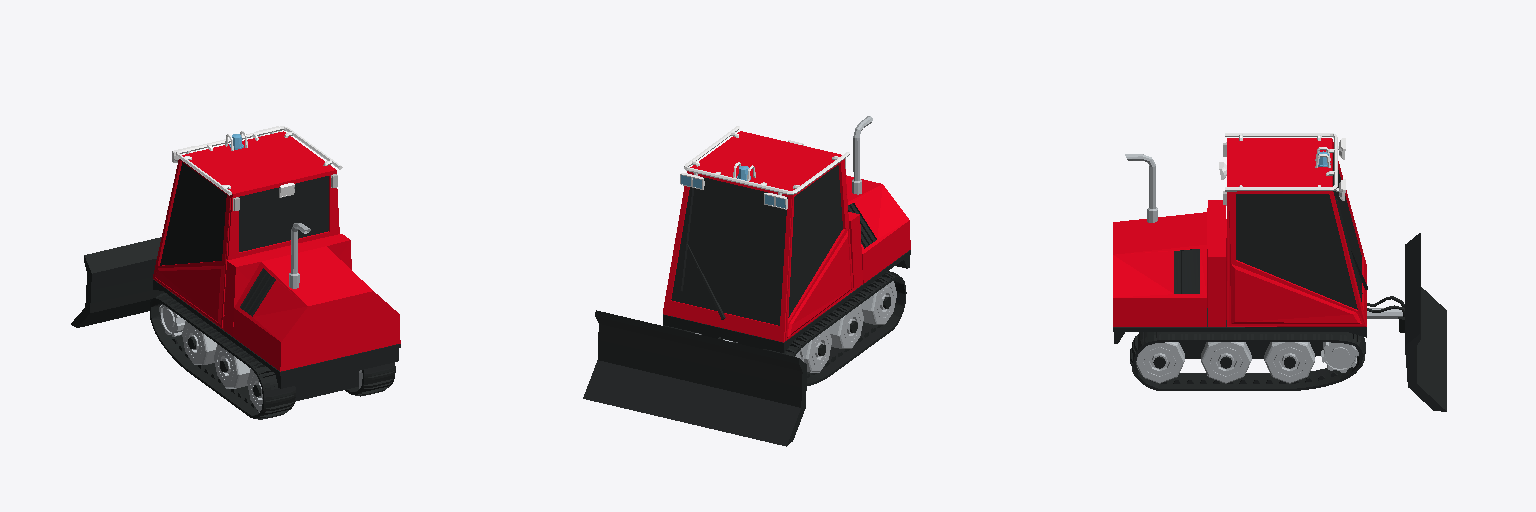
The model's file is LowPoly-Snowcat.obj.
The picture shows the model from 3 angles: view 1: azimuth 30°, elevation 25°; view 2: azimuth 150°, elevation 25°; view 3: azimuth 270°, elevation 25°; orthographic projection.
Parts seen in each view (by area): view 1: Cabin, Windows, Tracks, Backet, Base, Cabin_pipe, Wheel_3, Wheel_3.2, Lattice, Exhaust_pipe, Wheel1; view 2: Backet, Windows, Cabin, Tracks, Base, Cabin_pipe, Wheel_3.1, Wheel_3, Wheel_3.2, Front_lights, Exhaust_pipe, Wiper; view 3: Cabin, Windows, Tracks, Backet, Base, Wheel_3, Wheel_3.2, Wheel_3.1, Cabin_pipe, Lattice, Wheel1, Exhaust_pipe.
Part boxes in pixels (x1,y1,x2,y2): Cabin: (153,131,400,371); Windows: (160,162,328,265); Tracks: (150,293,395,419); Backet: (71,237,164,327); Base: (153,279,400,401); Cabin_pipe: (176,126,342,195); Wheel_3: (214,344,250,388); Wheel_3.2: (182,321,216,364); Lattice: (240,268,275,316); Exhaust_pipe: (289,223,310,288); Wheel1: (159,304,185,336); Backet: (583,310,806,446); Windows: (671,165,842,325); Cabin: (663,131,910,342); Tracks: (663,271,906,385); Base: (663,250,910,352); Cabin_pipe: (684,126,849,194); Wheel_3.1: (860,281,896,324); Wheel_3: (829,305,863,348); Wheel_3.2: (701,328,831,372); Front_lights: (680,173,787,209); Exhaust_pipe: (852,116,872,194); Wiper: (680,187,725,319); Cabin: (1113,138,1366,326); Windows: (1236,153,1361,309); Tracks: (1130,332,1365,390); Backet: (1398,233,1446,411); Base: (1113,308,1366,358); Wheel_3: (1201,342,1251,383); Wheel_3.2: (1264,342,1314,383); Wheel_3.1: (1136,342,1184,383); Cabin_pipe: (1225,133,1337,191); Lattice: (1174,249,1199,293); Wheel1: (1321,342,1358,372); Exhaust_pipe: (1125,154,1157,222).
Size of the model in its own units: 12.61 by 12.54 by 17.85.